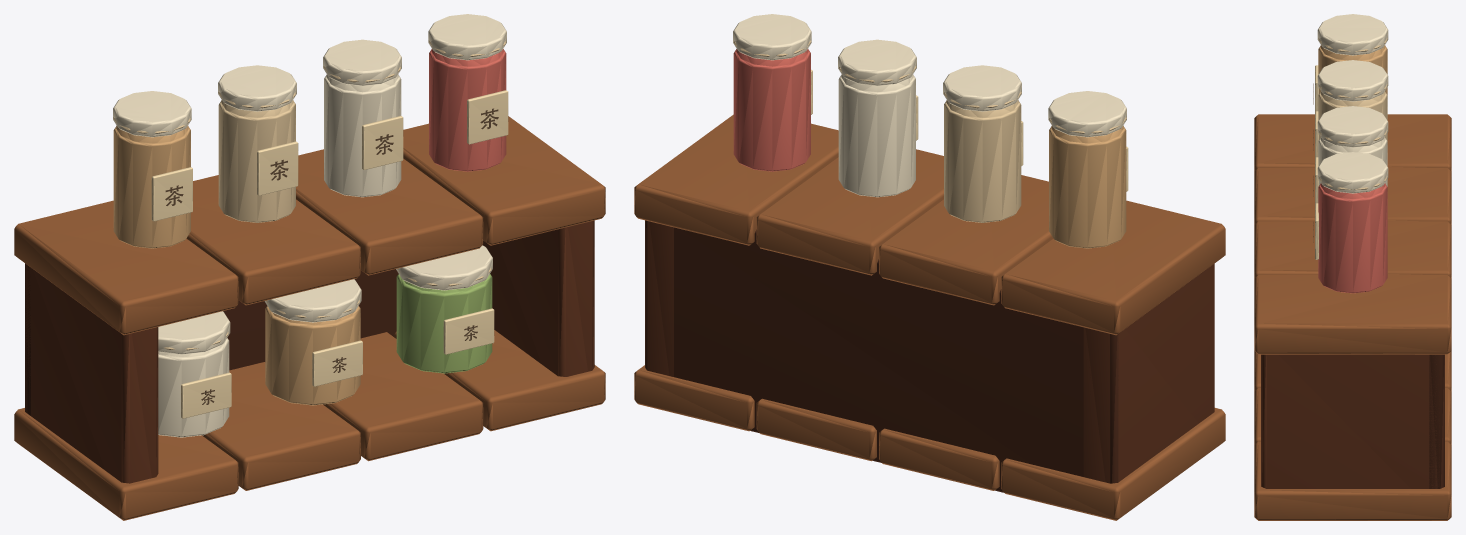
Rendered from display_shelf.fbx.
The picture shows the model from 3 angles, left to right: view 1: azimuth 30°, elevation 25°; view 2: azimuth 150°, elevation 25°; view 3: azimuth 270°, elevation 25°; orthographic projection. The views are drawn at different scales.
Parts seen in each view (by area): view 1: display_shelf; view 2: display_shelf; view 3: display_shelf.
Boxes of the visible parts, x1,y1,x2,y2 form: display_shelf: [14, 14, 605, 520]; display_shelf: [634, 14, 1225, 520]; display_shelf: [1254, 14, 1451, 520].
Size of the model in its own units: 74 by 52.28 by 29.
